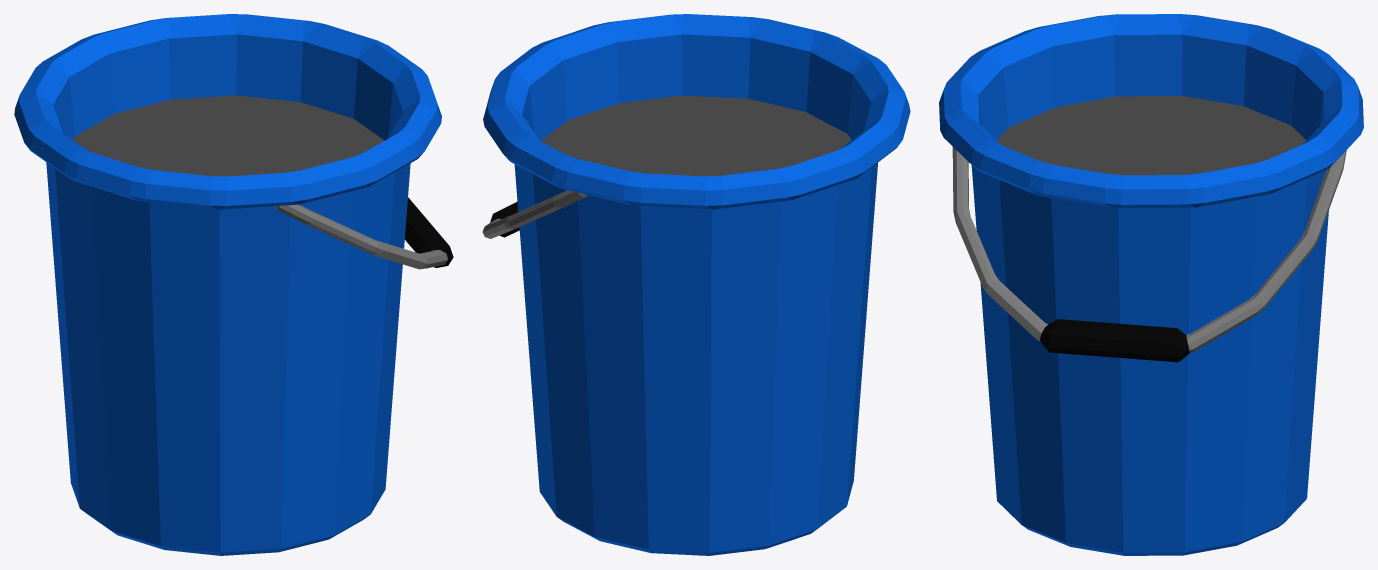
The model's file is eimer_moertel.glb.
The picture shows the model from 3 angles, left to right: view 1: azimuth 30°, elevation 25°; view 2: azimuth 150°, elevation 25°; view 3: azimuth 270°, elevation 25°; orthographic projection.
Visible parts, largest first — view 1: Bucket_water; view 2: Bucket_water; view 3: Bucket_water.
Part boxes in pixels (left/top/right/bottom): Bucket_water: left=14, top=14, right=453, bottom=555; Bucket_water: left=482, top=14, right=910, bottom=555; Bucket_water: left=939, top=14, right=1363, bottom=555.
Bounding box in the file's own units: 1.64 × 1.65 × 1.59.
